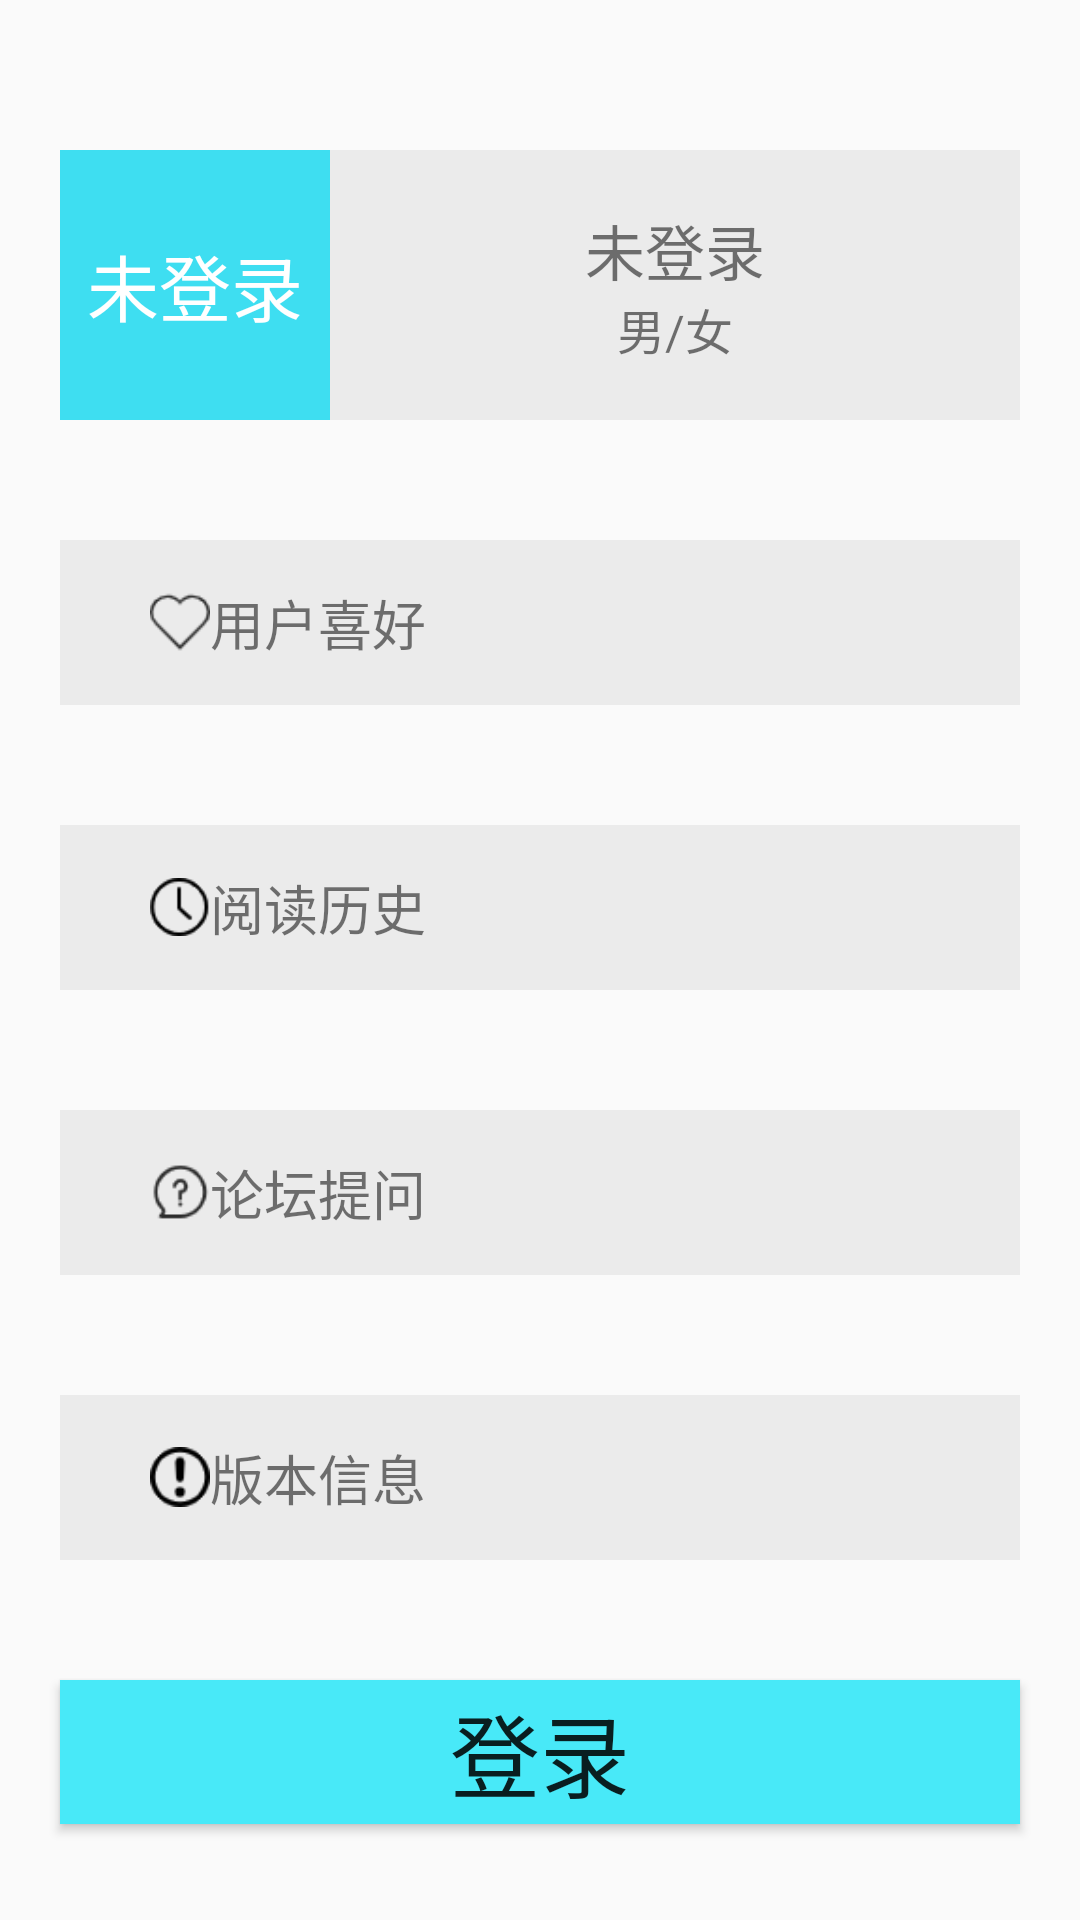

Screen size 1080x1920. Icon name, then its box in pixels as (x1, y1, x2, y2):
history: (150, 878, 209, 936)
like: (150, 594, 210, 650)
question: (153, 1165, 208, 1219)
